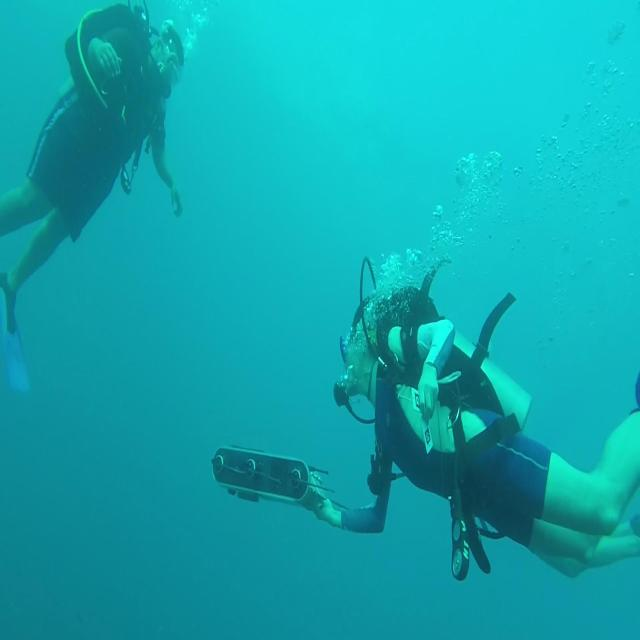human: (298, 252, 639, 582), (1, 1, 185, 392)
